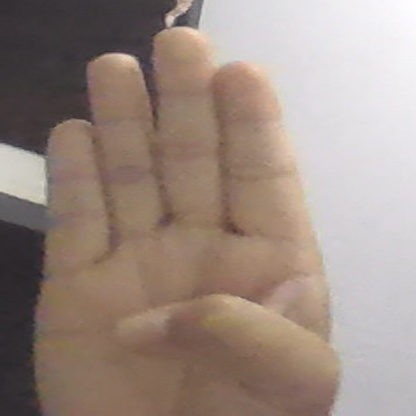B: (34, 25, 343, 407)
